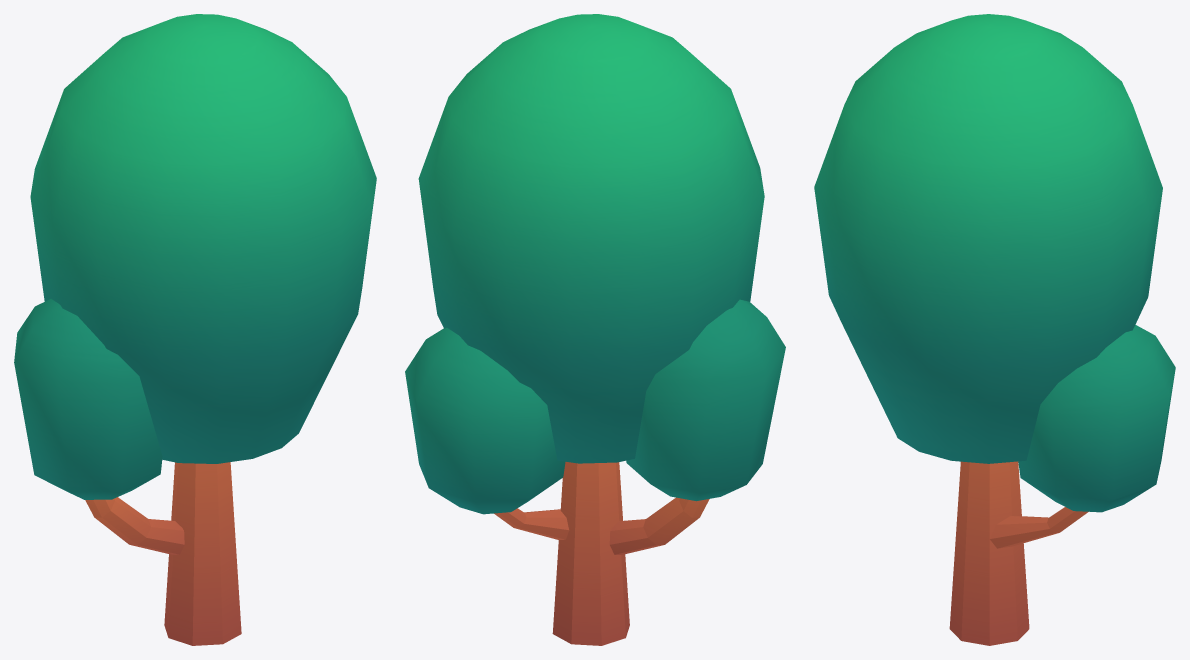
File: Tree2_Green.glb
3 views of the same model, side by side, from view 1: azimuth 30°, elevation 25°; view 2: azimuth 150°, elevation 25°; view 3: azimuth 270°, elevation 25° (orthographic).
Parts seen in each view (by area): view 1: Tree2_Green; view 2: Tree2_Green; view 3: Tree2_Green.
Boxes of the visible parts, x1,y1,x2,y2 form: Tree2_Green: (14,14,376,645); Tree2_Green: (405,14,785,645); Tree2_Green: (814,14,1175,645).
Size of the model in its own units: 2.76 by 4.77 by 2.6.
Materials: 1 (1 with a texture image).
